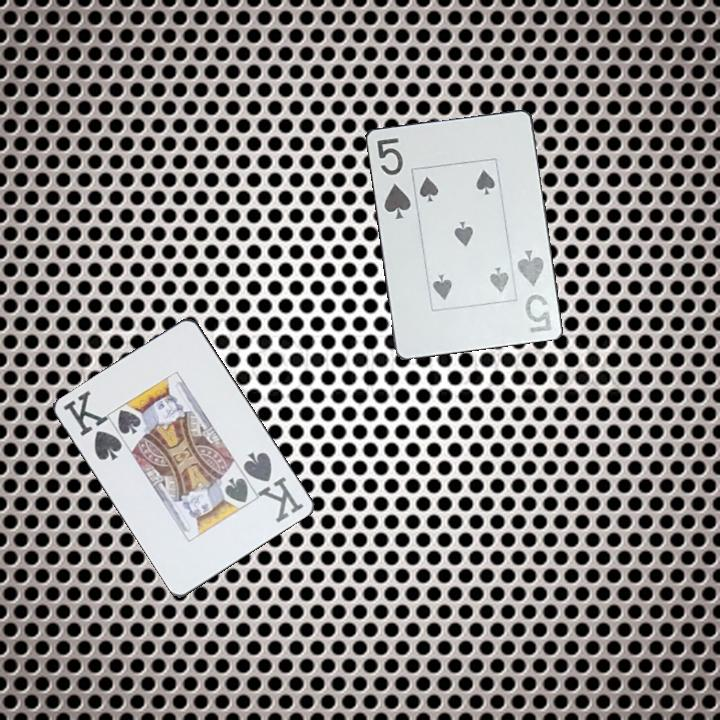5s: (513, 246, 554, 335), (373, 134, 414, 222)
Ks: (240, 448, 307, 525), (60, 388, 126, 464)
